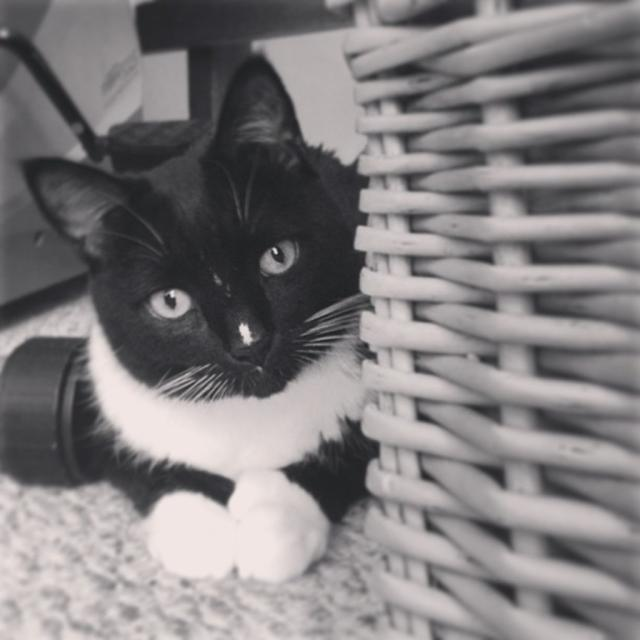Cat: (16, 47, 371, 582)
